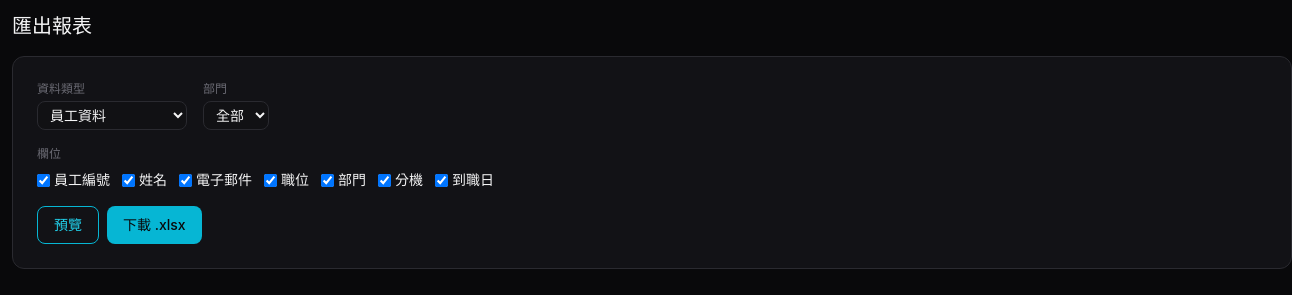
Scenario: 員工資料類型不顯示員工篩選與日期篩選；出勤類型才顯示
Expected: the text "起始日期" is not shown
Select "出勤（生效值）" in the dropdown labelled "資料類型". click: (112, 116)
box: [37,101,187,130]
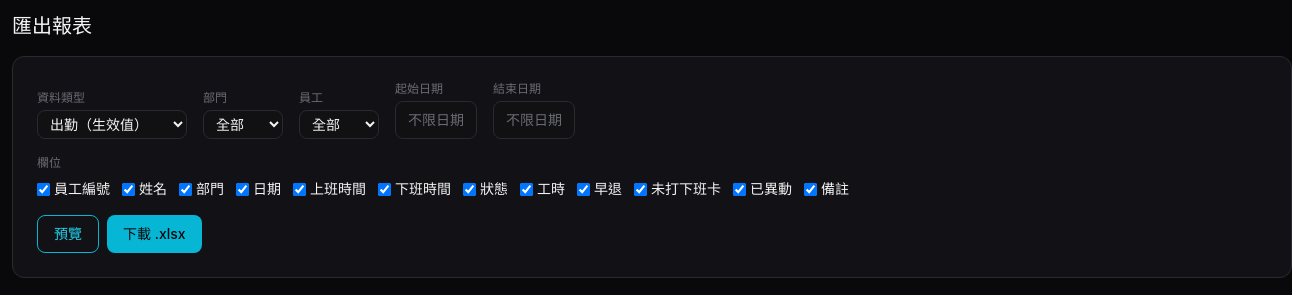
Expected: the dropdown labelled "員工" is shown, [299,110,379,139]
Expected: the text "起始日期" is shown, [395,81,443,96]
